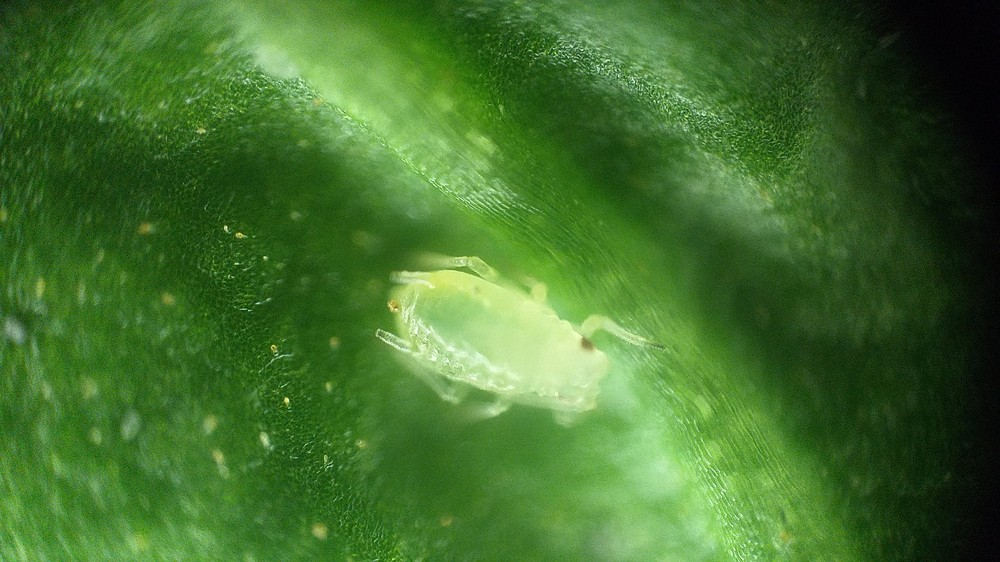Pulgon: (354, 235, 684, 436)
